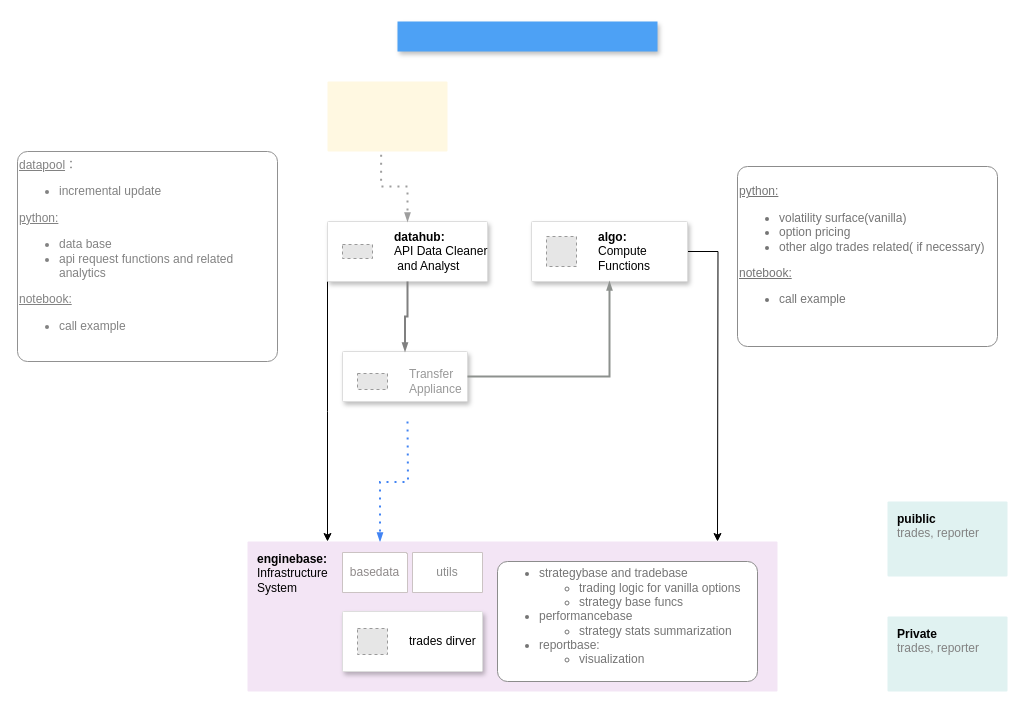
The diagram is 1025 pixels wide and 708 high, and some of its shapes have lost their labels. Grey dashed boxes stand in for pictures. Each missing label, with the centre of its shape:
Architecture: beebee-Ate: point 528,37
External Data Sources: Tushare: point 387,116
